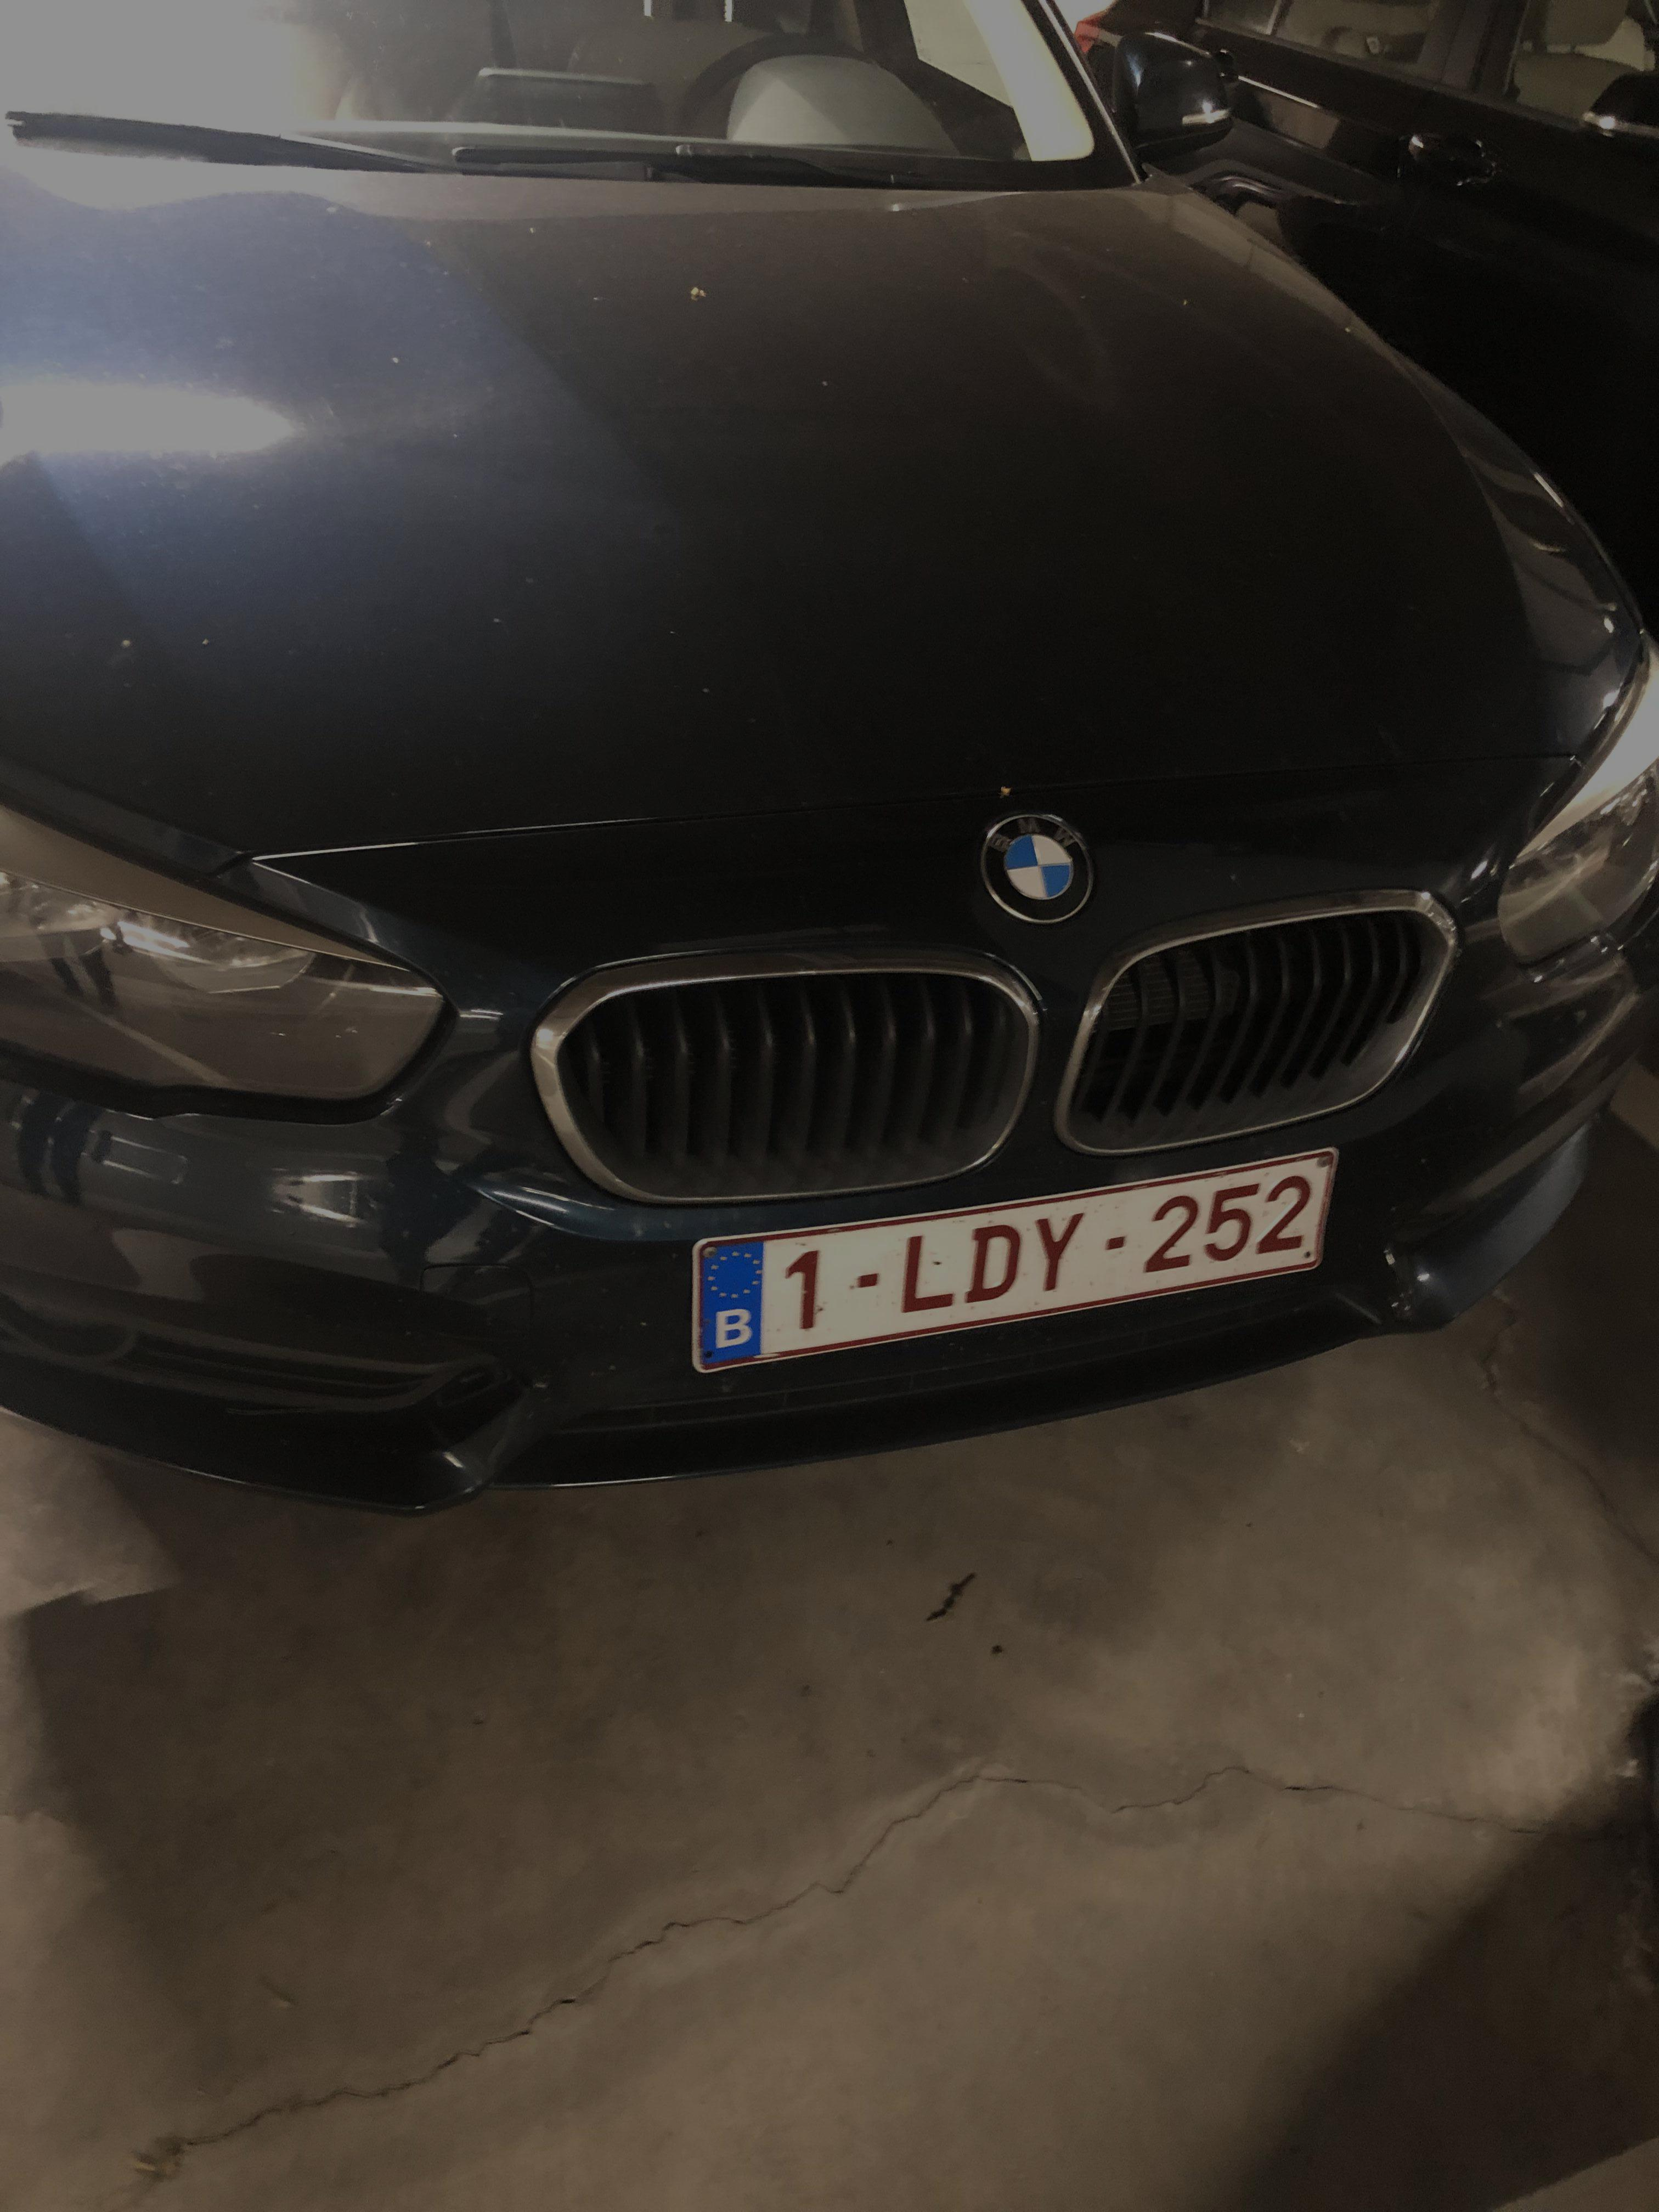plate: (669, 1125, 1358, 1381)
